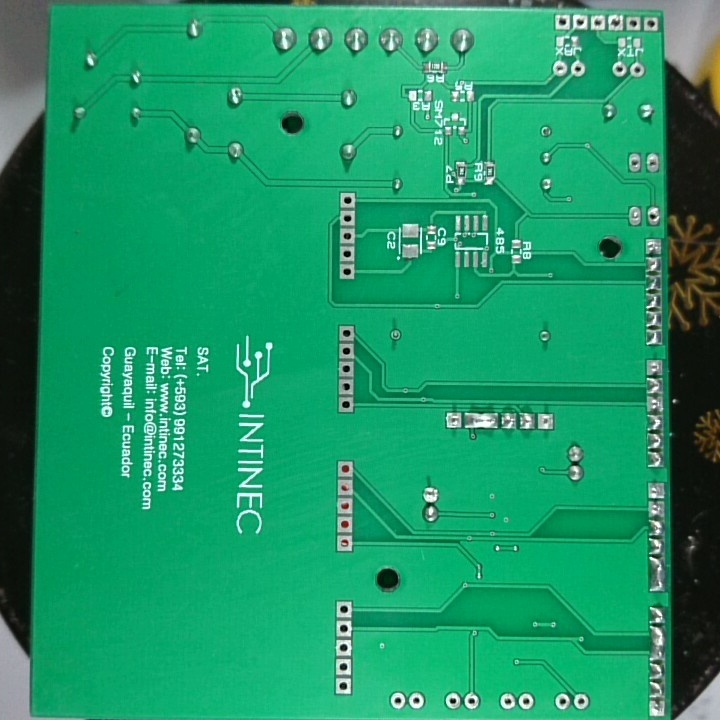F: (444, 407, 463, 436), (573, 688, 593, 712), (463, 689, 483, 712), (647, 478, 667, 500), (407, 689, 424, 714), (421, 482, 441, 503), (644, 358, 666, 377), (571, 12, 589, 35), (338, 261, 356, 284), (499, 689, 516, 713), (644, 152, 659, 179), (553, 12, 573, 32), (339, 189, 359, 209), (337, 341, 357, 361), (336, 534, 355, 555), (335, 677, 354, 698), (336, 513, 354, 535), (627, 151, 643, 175), (567, 60, 586, 80), (388, 690, 407, 710), (519, 689, 534, 714), (553, 690, 570, 712), (338, 243, 357, 262), (335, 658, 353, 678), (644, 238, 664, 256), (335, 460, 356, 477), (444, 690, 461, 711), (624, 14, 642, 33), (339, 207, 357, 226), (335, 619, 353, 638), (335, 637, 354, 655), (648, 499, 667, 517), (336, 495, 353, 515), (608, 14, 624, 35), (612, 60, 630, 78), (589, 14, 606, 33), (339, 224, 356, 243), (336, 359, 353, 378), (337, 398, 356, 415), (647, 393, 664, 412), (538, 410, 552, 433), (336, 600, 353, 618), (388, 324, 404, 343), (647, 698, 666, 714), (627, 203, 640, 226), (630, 59, 642, 83), (337, 477, 353, 495), (646, 205, 659, 226), (337, 375, 350, 396), (339, 324, 353, 343), (553, 58, 566, 78), (644, 14, 656, 34), (540, 126, 554, 141)
P: (647, 555, 667, 598), (463, 409, 499, 432), (650, 627, 667, 660)
